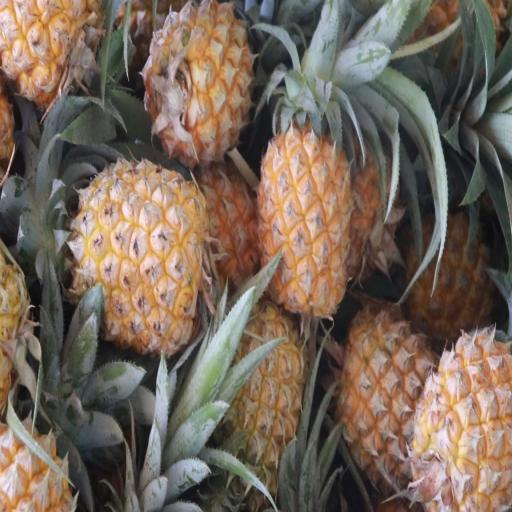------------------------------: (337, 314, 438, 491)
Pineapple - v8 v1: (76, 157, 203, 346), (258, 122, 354, 318), (412, 333, 512, 511), (148, 1, 251, 159), (216, 306, 301, 480), (0, 0, 106, 104), (409, 209, 500, 327)
